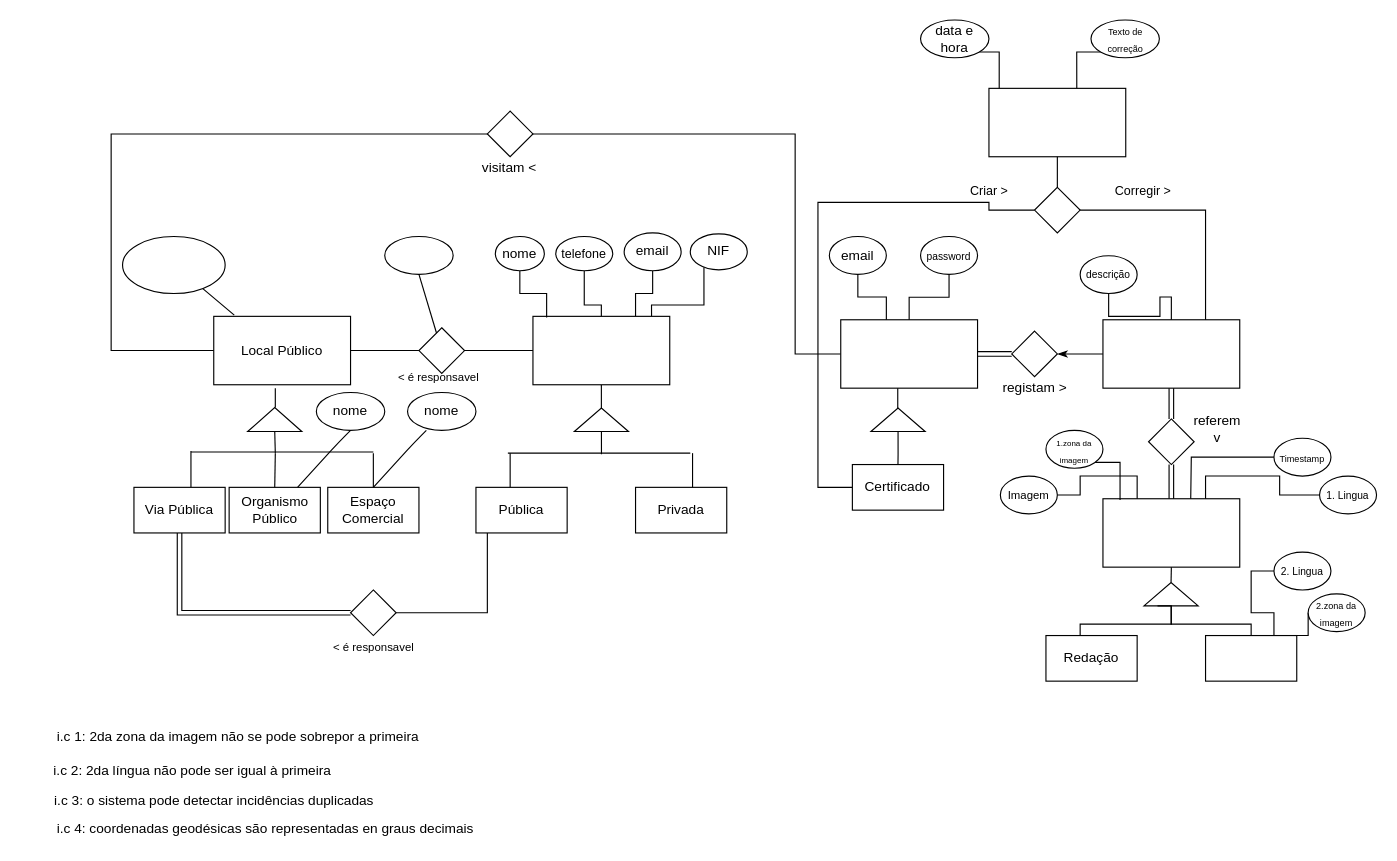
The diagram is 1397 pixels wide and 861 high, and some of its shapes have lost their labels. Each missing label, with the centre of its shape:
Anomalía: point (1171, 532)
coordenadas geodésicas: point (173, 264)
data: point (418, 254)
Entidad Responsável: point (601, 350)
Incidência: point (1171, 353)
Proposta: point (1057, 122)
Tradução: point (1250, 657)
Utilizador: point (909, 353)
